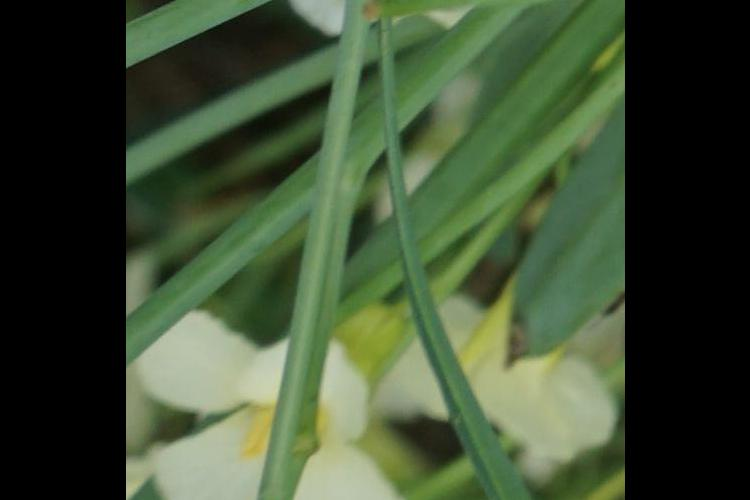white: (159, 286, 410, 500), (405, 278, 595, 461), (281, 1, 504, 51)
